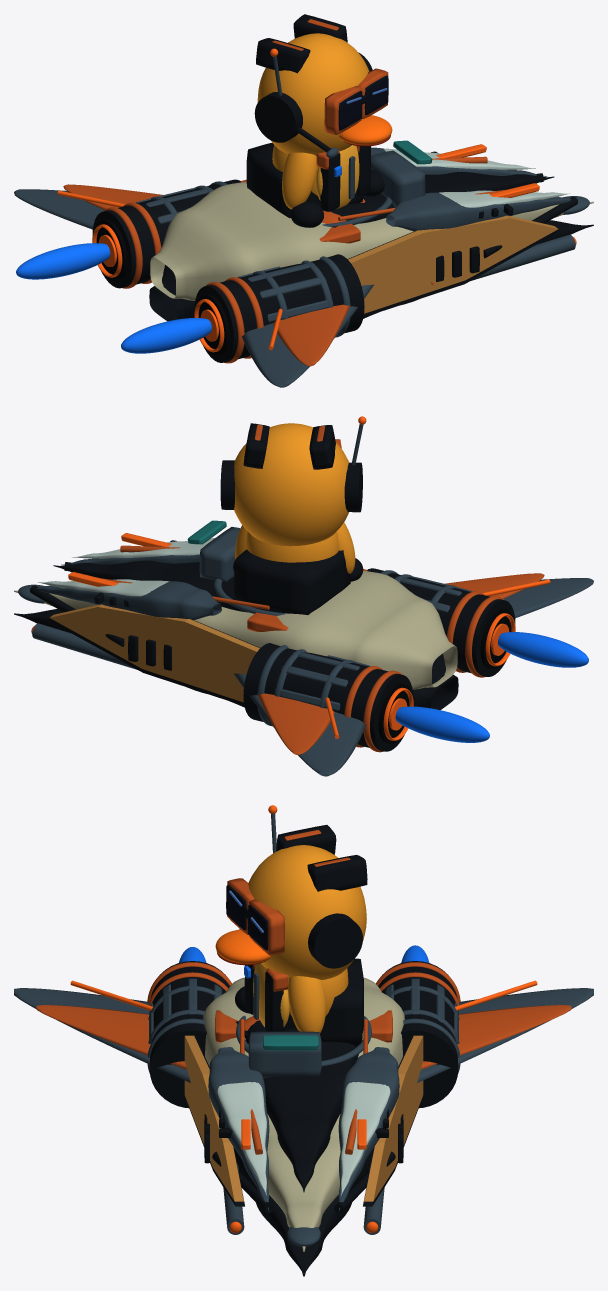
File: ducke-and-scout.obj
3 views of the same model, one above another, from view 1: azimuth 30°, elevation 25°; view 2: azimuth 150°, elevation 25°; view 3: azimuth 270°, elevation 25° (orthographic). The views are drawn at different scales.
Parts seen in each view (by area): view 1: sculpted-fuselage_part_146, directional-cheek-armor_part_159, sphere_part_31, cylinder_part_131, sculpted-fuselage_part_150, cylinder_part_123, sculpted-fuselage_part_147, swept-fin_part_155, swept-fin_part_154, sphere_part_1, sphere_part_12, beveled-plate_part_82 (+30 smaller); view 2: sculpted-fuselage_part_146, sphere_part_31, directional-cheek-armor_part_157, beveled-plate_part_82, cylinder_part_123, sculpted-fuselage_part_148, cylinder_part_131, sculpted-fuselage_part_147, swept-fin_part_153, swept-fin_part_152, sphere_part_1, sphere_part_12 (+26 smaller); view 3: sphere_part_31, sculpted-fuselage_part_146, sculpted-fuselage_part_147, cylinder_part_123, cylinder_part_131, directional-cheek-armor_part_157, directional-cheek-armor_part_159, swept-fin_part_153, swept-fin_part_155, sculpted-fuselage_part_148, sculpted-fuselage_part_150, sculpted-fuselage_part_149 (+18 smaller).
Boxes of the visible parts, box(x1,y1,x2,y2) form: sculpted-fuselage_part_146: box(150, 182, 593, 300); directional-cheek-armor_part_159: box(348, 215, 558, 313); sphere_part_31: box(257, 33, 369, 155); cylinder_part_131: box(194, 254, 364, 362); sculpted-fuselage_part_150: box(386, 192, 578, 231); cylinder_part_123: box(92, 179, 240, 288); sculpted-fuselage_part_147: box(331, 172, 554, 223); swept-fin_part_155: box(273, 304, 350, 366); swept-fin_part_154: box(241, 284, 373, 387); sphere_part_1: box(16, 243, 110, 279); sphere_part_12: box(121, 318, 211, 353); beveled-plate_part_82: box(246, 142, 363, 218); sculpted-fuselage_part_146: box(14, 571, 457, 689); sphere_part_31: box(234, 423, 348, 546); directional-cheek-armor_part_157: box(49, 604, 259, 702); beveled-plate_part_82: box(234, 549, 350, 614); cylinder_part_123: box(243, 643, 413, 751); sculpted-fuselage_part_148: box(29, 581, 221, 619); cylinder_part_131: box(367, 568, 515, 676); sculpted-fuselage_part_147: box(53, 560, 248, 612); swept-fin_part_153: box(257, 693, 334, 755); swept-fin_part_152: box(233, 673, 366, 776); sphere_part_1: box(395, 706, 489, 742); sphere_part_12: box(498, 632, 588, 667); sphere_part_31: box(248, 845, 366, 979); sculpted-fuselage_part_146: box(203, 977, 404, 1251); sculpted-fuselage_part_147: box(245, 1020, 362, 1192); cylinder_part_123: box(378, 961, 458, 1108); cylinder_part_131: box(149, 961, 229, 1108); directional-cheek-armor_part_157: box(364, 1035, 423, 1201); directional-cheek-armor_part_159: box(184, 1035, 243, 1201); swept-fin_part_153: box(421, 1005, 571, 1069); swept-fin_part_155: box(36, 1005, 186, 1069); sculpted-fuselage_part_148: box(338, 1047, 399, 1211); sculpted-fuselage_part_150: box(208, 1047, 269, 1211); sculpted-fuselage_part_149: box(341, 1082, 390, 1195).
Bounding box in the file's own units: 7.09 × 3.55 × 6.2.
